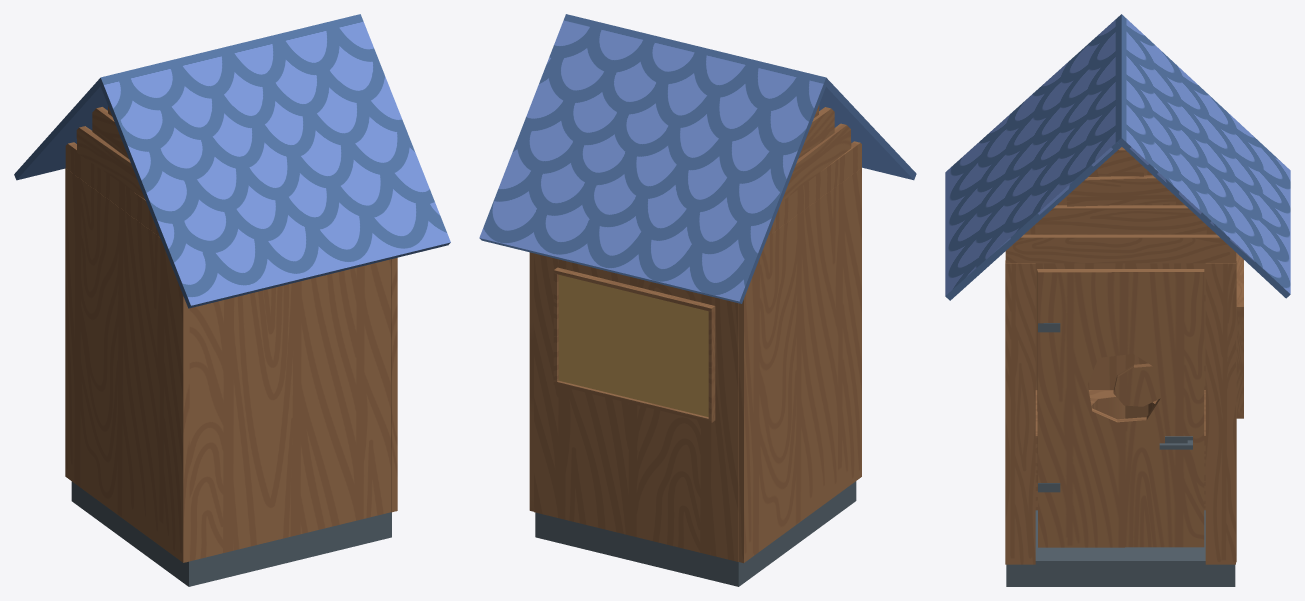
The model's file is outhouse.glb.
The picture shows the model from 3 angles, left to right: view 1: azimuth 30°, elevation 25°; view 2: azimuth 150°, elevation 25°; view 3: azimuth 270°, elevation 25°; orthographic projection. The views are drawn at different scales.
Visible parts, largest first — view 1: Roof, LeftWall, BackWall, Floor, Cube.012, Front, Cube.013; view 2: Roof, BackWall, RightWall, map, Floor, Cube.012, Front, Cube.013; view 3: Roof, Door, Front, Floor, Cube.008, BackWall, Cube.010, Seat, map, Cube.011.
Boxes of the visible parts, box(x1,y1,x2,y2) form: Roof: box(14, 14, 450, 308); LeftWall: box(189, 259, 390, 561); BackWall: box(65, 142, 189, 562); Floor: box(71, 481, 391, 586); Cube.012: box(76, 126, 145, 199); Front: box(391, 257, 397, 512); Cube.013: box(92, 107, 128, 158); Roof: box(479, 14, 916, 303); BackWall: box(739, 141, 861, 563); RightWall: box(534, 253, 738, 561); map: box(553, 267, 715, 422); Floor: box(535, 481, 856, 586); Cube.012: box(781, 123, 851, 201); Front: box(529, 252, 533, 511); Cube.013: box(798, 107, 834, 158); Roof: box(945, 14, 1290, 300); Door: box(1037, 269, 1204, 547); Front: box(1005, 234, 1236, 564); Floor: box(1006, 510, 1235, 586); Cube.008: box(1035, 205, 1206, 234); BackWall: box(1024, 147, 1216, 389); Cube.010: box(1066, 175, 1175, 206); Seat: box(1035, 390, 1205, 510); map: box(1236, 253, 1243, 418); Cube.011: box(1097, 147, 1143, 176).
Size of the model in its own units: 3.28 by 5.71 by 3.87.
Materials: 4 (2 with a texture image).
